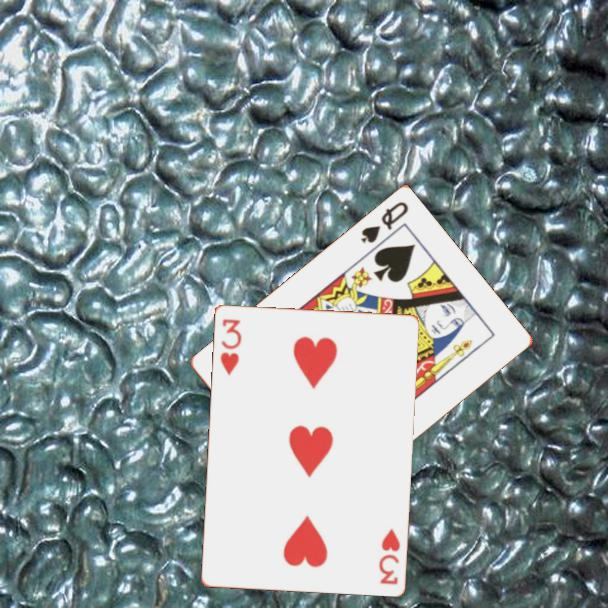h03: (216, 315, 244, 378), (375, 524, 403, 587)
s12: (357, 198, 411, 247)
